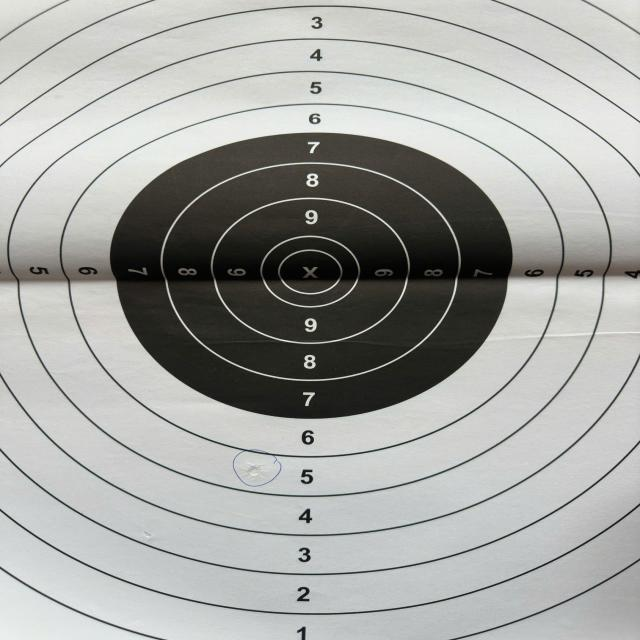bullet: (248, 464, 260, 476)
